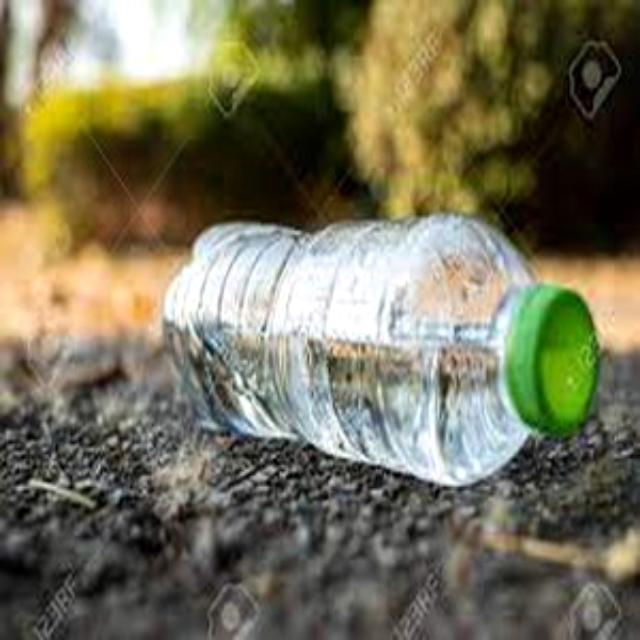Plastic: (158, 212, 598, 486)
